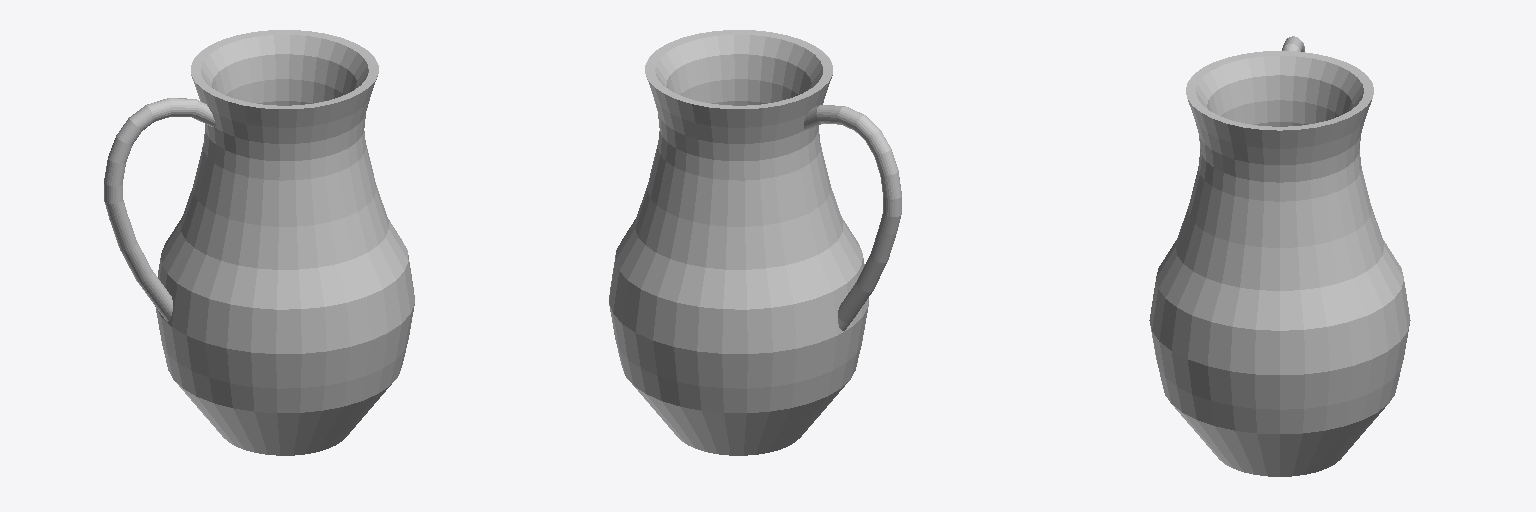
File: Maceta.obj
3 views of the same model, side by side, from view 1: azimuth 30°, elevation 25°; view 2: azimuth 150°, elevation 25°; view 3: azimuth 270°, elevation 25° (orthographic).
Visible parts, largest first — view 1: Cylinder, NurbsPath_Mesh, Cylinder.001; view 2: Cylinder, NurbsPath_Mesh, Cylinder.001; view 3: Cylinder, Cylinder.001.
Boxes of the visible parts, x1=… form: Cylinder: x1=155, y1=35, x2=414, y2=455; NurbsPath_Mesh: x1=104, y1=98, x2=215, y2=321; Cylinder.001: x1=191, y1=30, x2=378, y2=108; Cylinder: x1=609, y1=35, x2=868, y2=455; NurbsPath_Mesh: x1=804, y1=105, x2=901, y2=330; Cylinder.001: x1=645, y1=30, x2=832, y2=108; Cylinder: x1=1149, y1=56, x2=1410, y2=476; Cylinder.001: x1=1186, y1=51, x2=1373, y2=130.
Size of the model in its own units: 0.6274 by 0.7579 by 0.5.